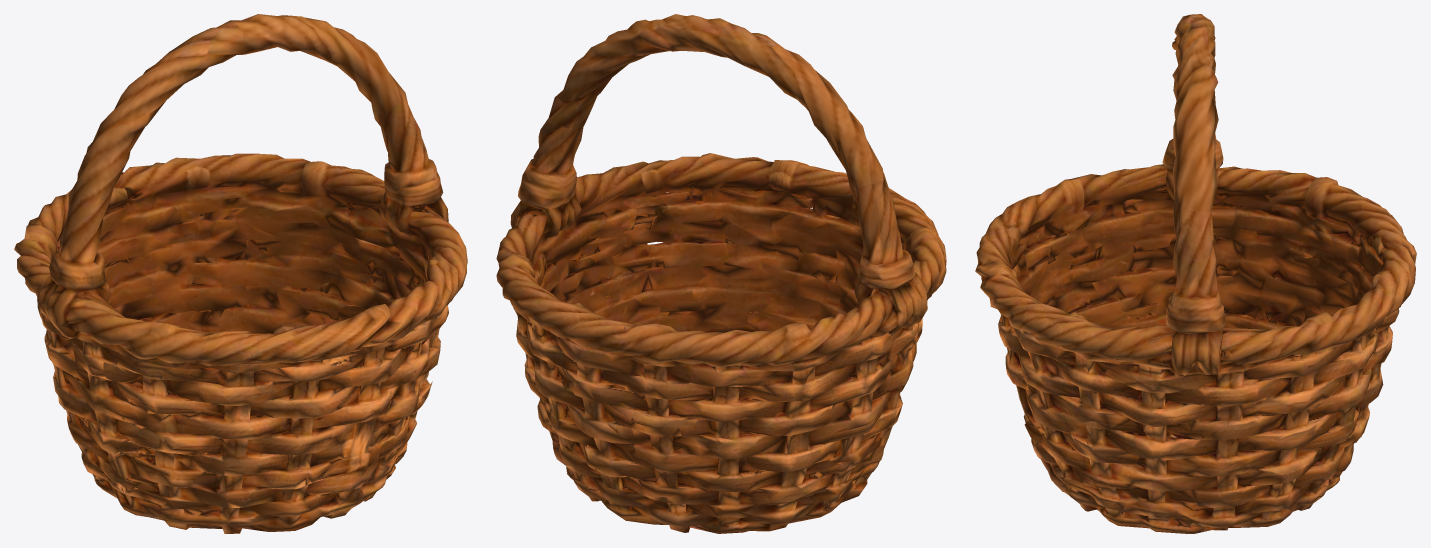
The model's file is basket.glb.
3 renders of one model, left to right at view 1: azimuth 30°, elevation 25°; view 2: azimuth 150°, elevation 25°; view 3: azimuth 270°, elevation 25°, orthographic. The views are drawn at different scales.
Bounding box in the file's own units: 0.5471 × 0.599 × 0.5391.
Materials: 1 (1 with a texture image).
